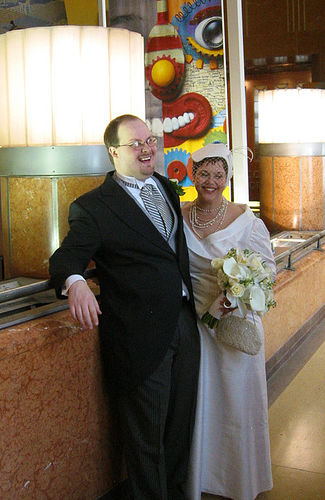without_mask: (108, 120, 158, 182), (187, 155, 231, 203)
